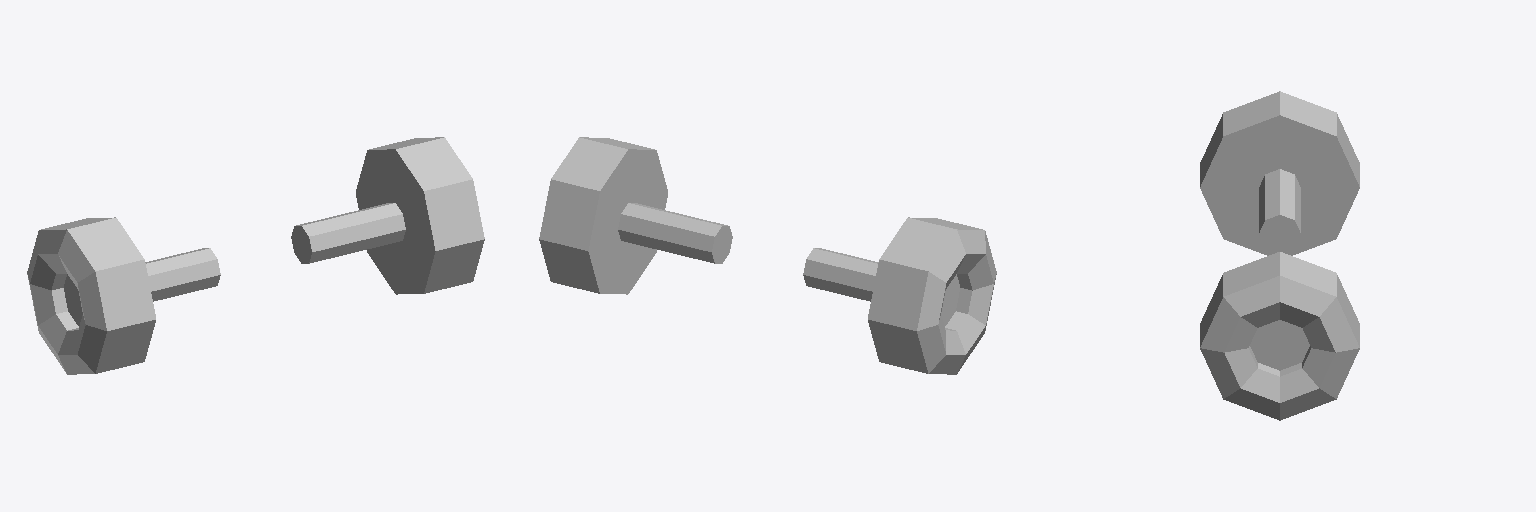
File: front_wheels.obj
3 renders of one model, left to right at view 1: azimuth 30°, elevation 25°; view 2: azimuth 150°, elevation 25°; view 3: azimuth 270°, elevation 25°, orthographic.
Parts seen in each view (by area): view 1: front_wheels_Cube.004; view 2: front_wheels_Cube.004; view 3: front_wheels_Cube.004.
Part boxes in pixels (bbox=[...]): front_wheels_Cube.004: bbox=[27, 137, 484, 374]; front_wheels_Cube.004: bbox=[539, 137, 996, 374]; front_wheels_Cube.004: bbox=[1200, 91, 1359, 420].
Size of the model in its own units: 2 by 0.7001 by 0.7001.